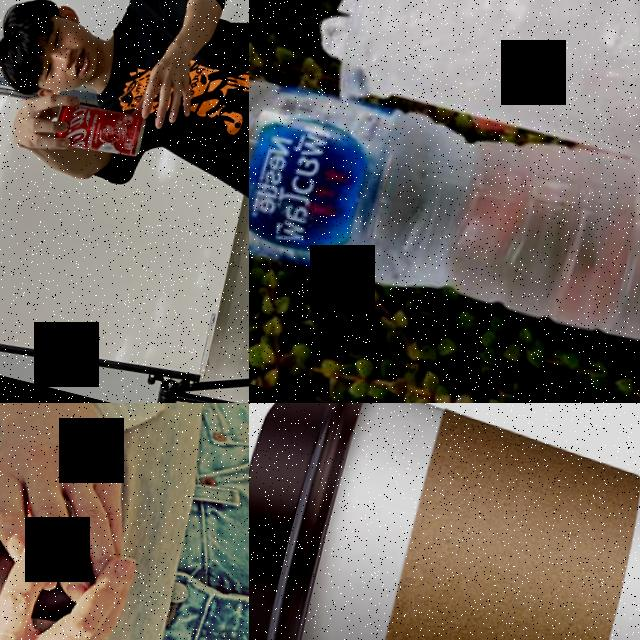bottle: (249, 29, 640, 368)
can: (50, 94, 149, 164)
cup: (249, 403, 640, 640), (333, 0, 640, 198), (0, 456, 113, 640)
